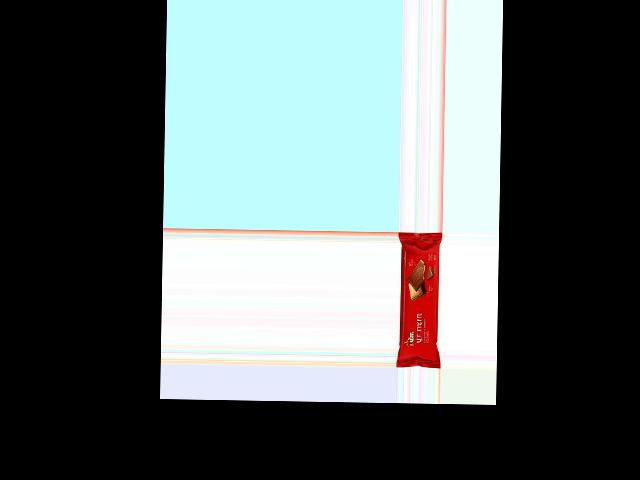chocolate: (396, 233, 443, 364)
